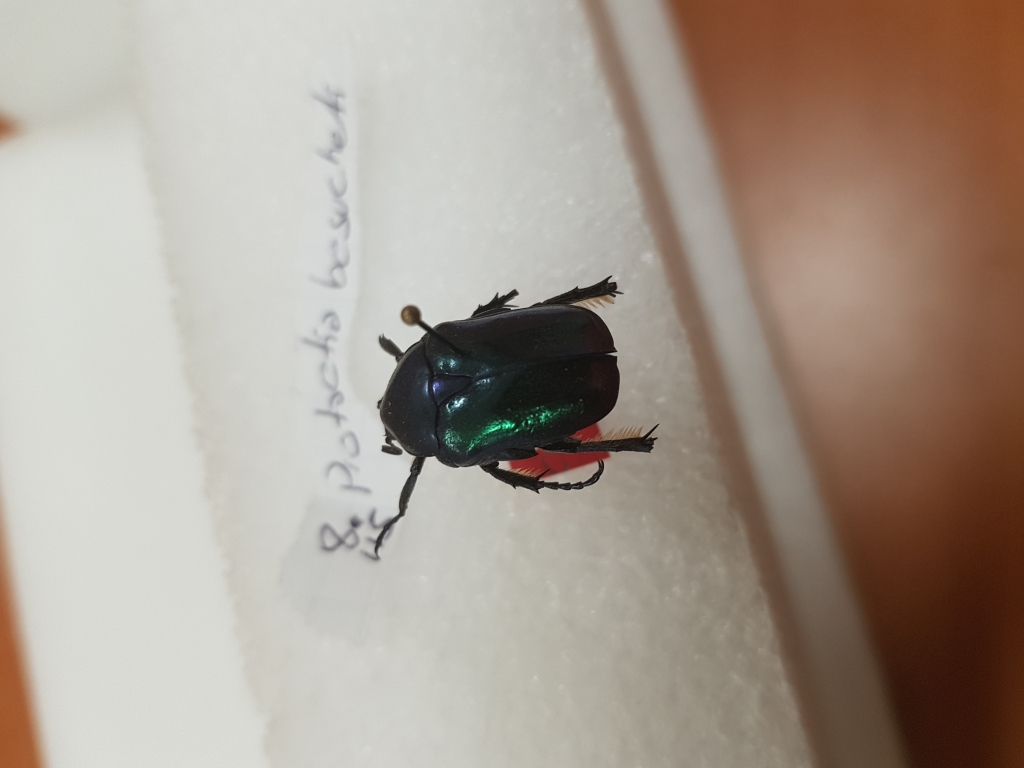Protaetia_besucheti: (363, 273, 665, 563)
